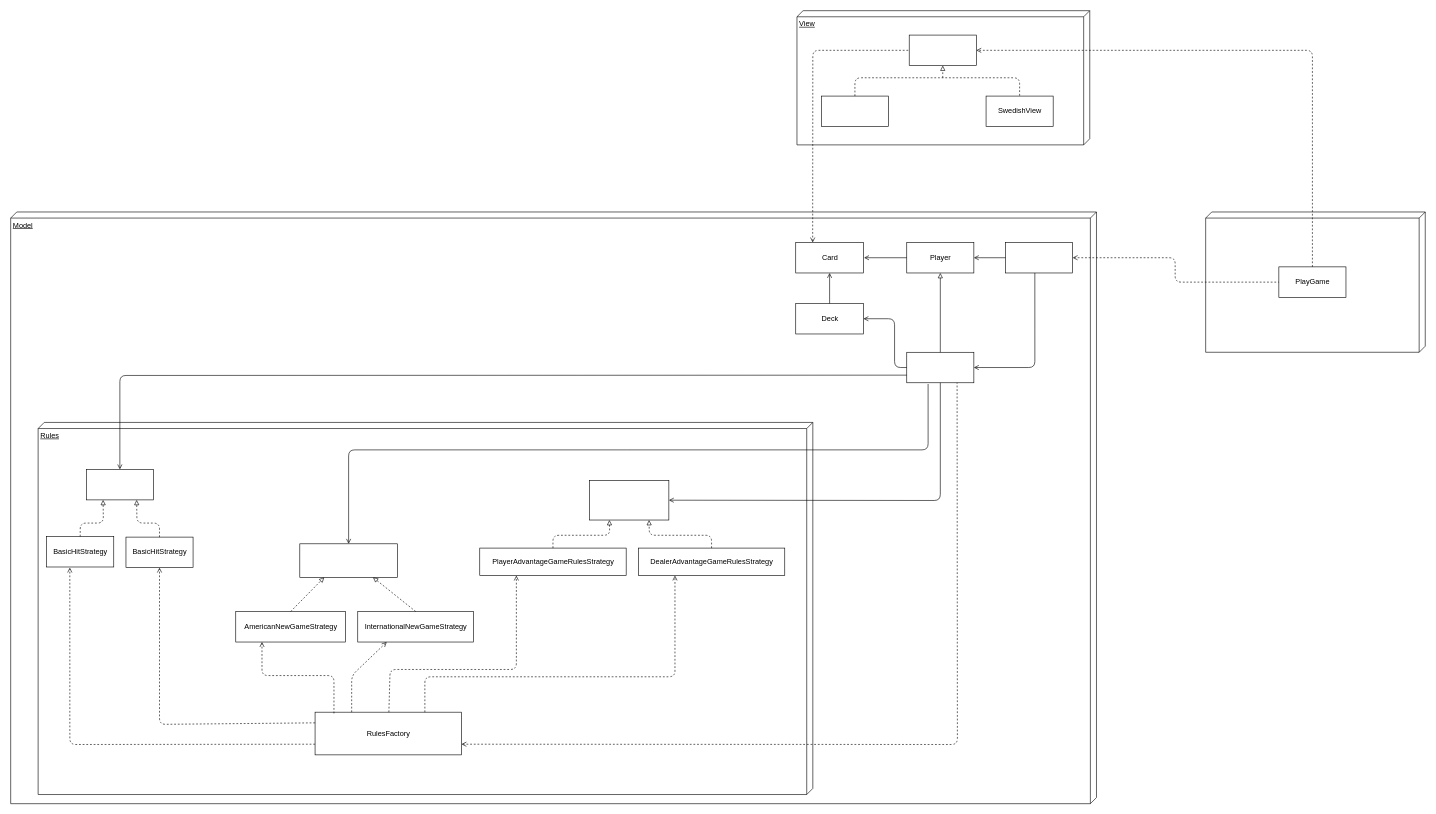
Some shapes in this 1436 by 814 pixel diagram are drawn without their labels. Each missing label, with the box of its shape:
Controller: (1205, 211, 1425, 352)
Dealer: (906, 352, 974, 383)
Game: (1005, 242, 1073, 273)
SimpleView: (821, 95, 888, 127)
«interface» IGameRulesStrategy: (589, 480, 669, 520)
«interface» IHitStrategy: (86, 469, 153, 500)
«interface» INewGameStrategy: (299, 543, 397, 577)
«interface» IView: (909, 34, 976, 66)
